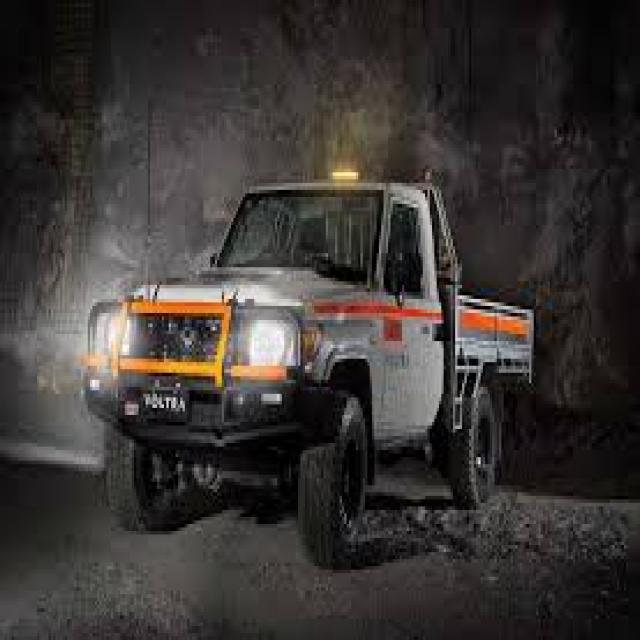light_vehicle: (69, 141, 527, 580)
